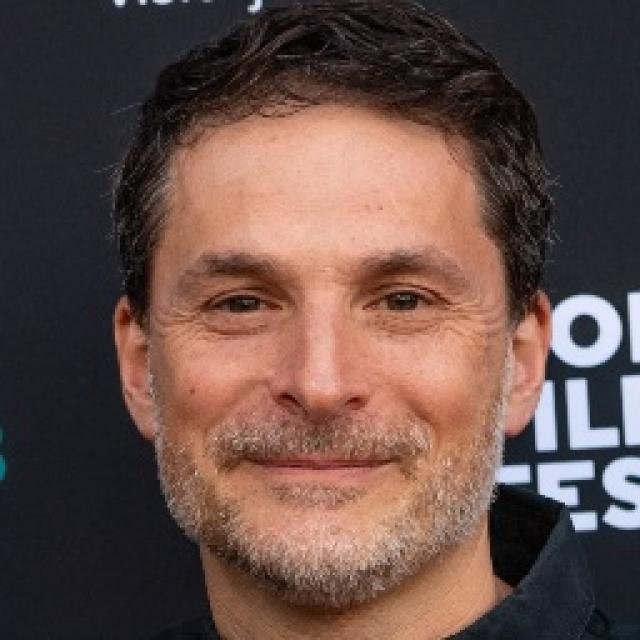earlobe: (498, 389, 534, 438), (127, 394, 158, 444)
eye: (370, 289, 440, 320), (212, 290, 276, 322)
nose: (272, 394, 370, 435)
wholeear: (498, 286, 554, 436), (110, 293, 158, 443)
